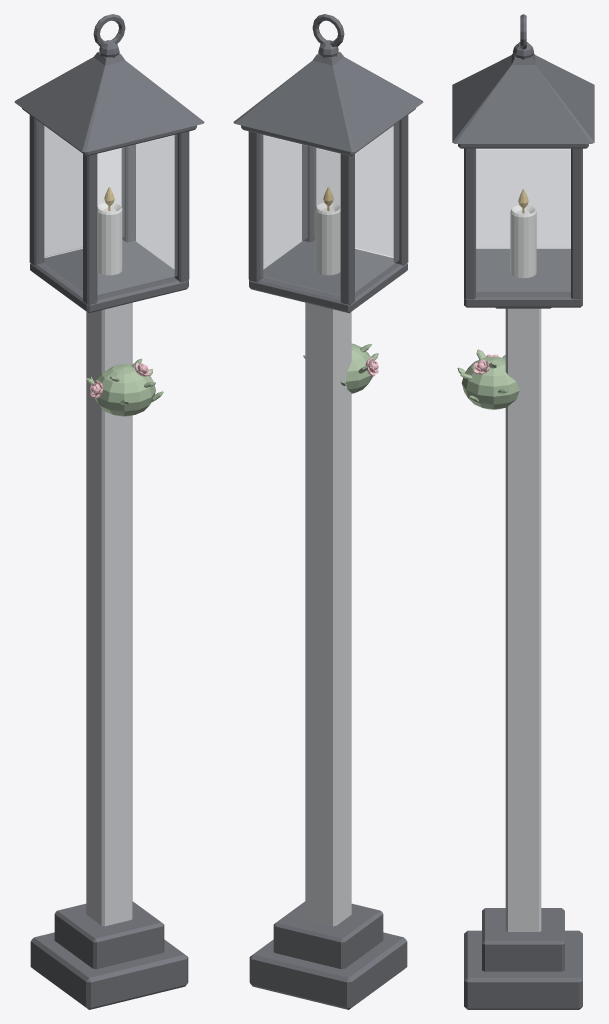
File: wedding-and-chapel-kit-lantern-post-c06e501d.glb
3 renders of one model, left to right at view 1: azimuth 30°, elevation 25°; view 2: azimuth 150°, elevation 25°; view 3: azimuth 270°, elevation 25°, orthographic.
Parts seen in each view (by area): view 1: lantern-post; view 2: lantern-post; view 3: lantern-post.
Boxes of the visible parts, x1,y1,x2,y2 form: lantern-post: (14, 14, 204, 1009); lantern-post: (233, 14, 423, 1009); lantern-post: (452, 14, 594, 1009).
Bounding box in the file's own units: 0.24 × 1.8 × 0.24.
